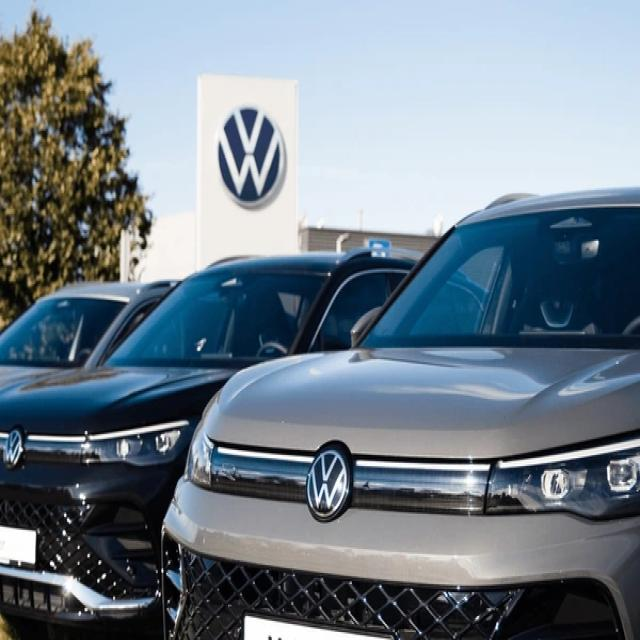wolksvogen: (215, 104, 282, 206), (306, 450, 350, 522), (1, 428, 24, 467)
